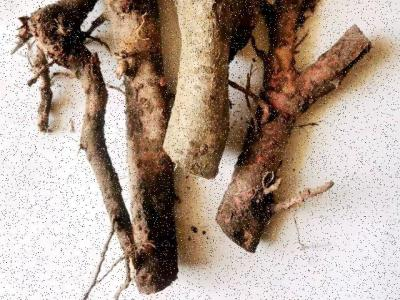Root: (19, 0, 369, 293)
